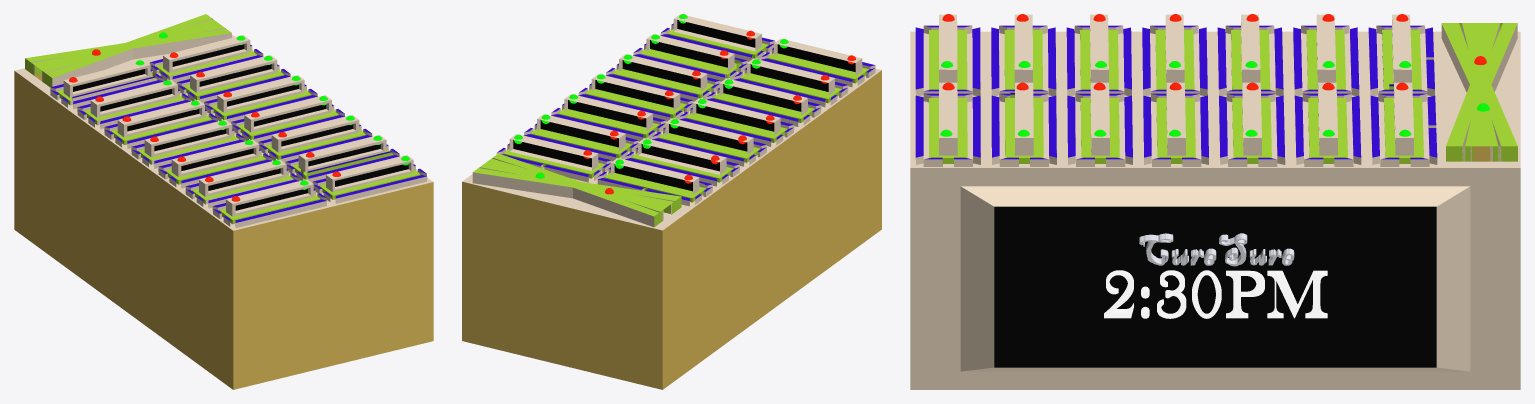
File: unffsxgvtitled.glb
3 renders of one model, left to right at view 1: azimuth 30°, elevation 25°; view 2: azimuth 150°, elevation 25°; view 3: azimuth 270°, elevation 25°, orthographic. The views are drawn at different scales.
Parts seen in each view (by area): view 1: Cube; view 2: Cube; view 3: Cube, Text, Text.001.
Boxes of the visible parts, box(x1,y1,x2,y2) form: Cube: box(14, 14, 433, 389); Cube: box(462, 14, 881, 389); Cube: box(910, 14, 1520, 389); Text: box(1104, 270, 1327, 318); Text.001: box(1139, 233, 1294, 266).
Bounding box in the file's own units: 4.76 × 3.71 × 8.2.
